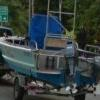Boat: (1, 23, 91, 87)
